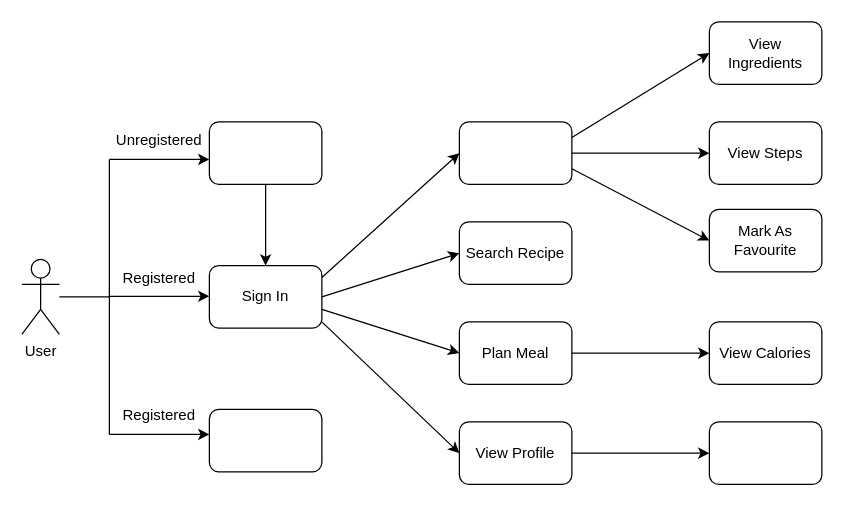
Image size: 844x506. Some labels were removed from this diagram. The centre of each missing label's shape, as x and y in pixels:
"Sign Out" goes at point 265,440.
"Sign Up" goes at point 265,152.
"View Favourites" goes at point 765,452.
"View Recipe" goes at point 515,152.
